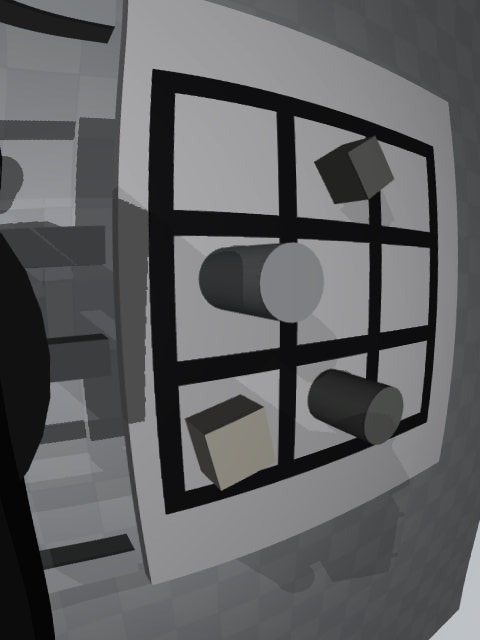can: (199, 242, 324, 322)
cube: (314, 135, 395, 204)
cylinder: (307, 369, 404, 445)
foam: (185, 395, 276, 491)
